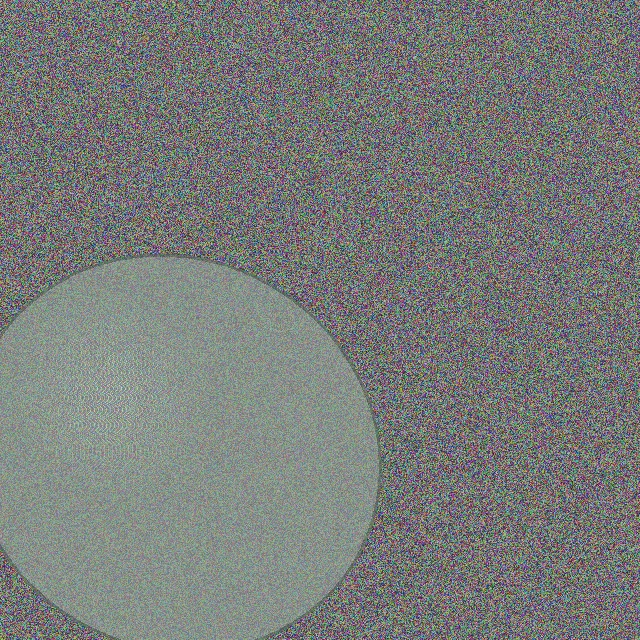lens: (0, 255, 380, 640)
